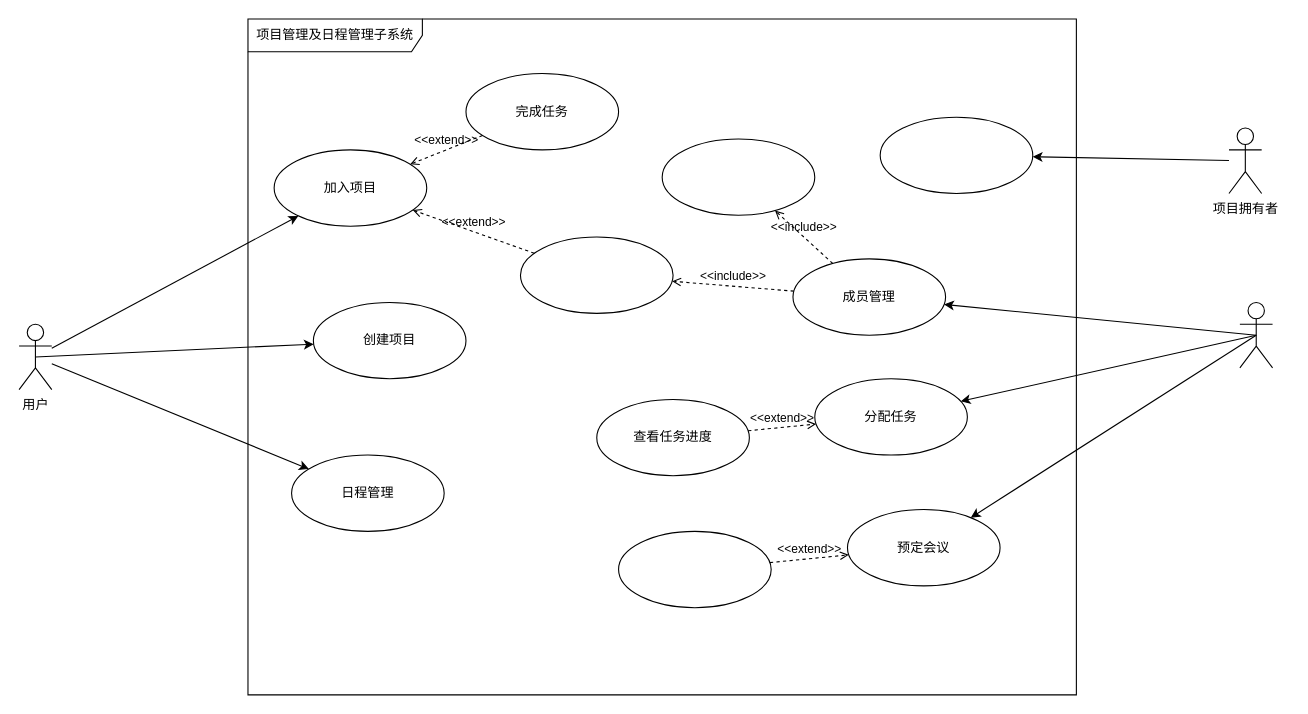
Some shapes in this 1308 by 714 pixel diagram are drawn without their labels. Here are the shapes that lost their labels. From the top down, the centre of each, then its label:
(956,154): 权限管理
(738,176): 成员变动管理
(596,274): 考勤
(1256,334): 项目管理者
(694,569): 会议签到
